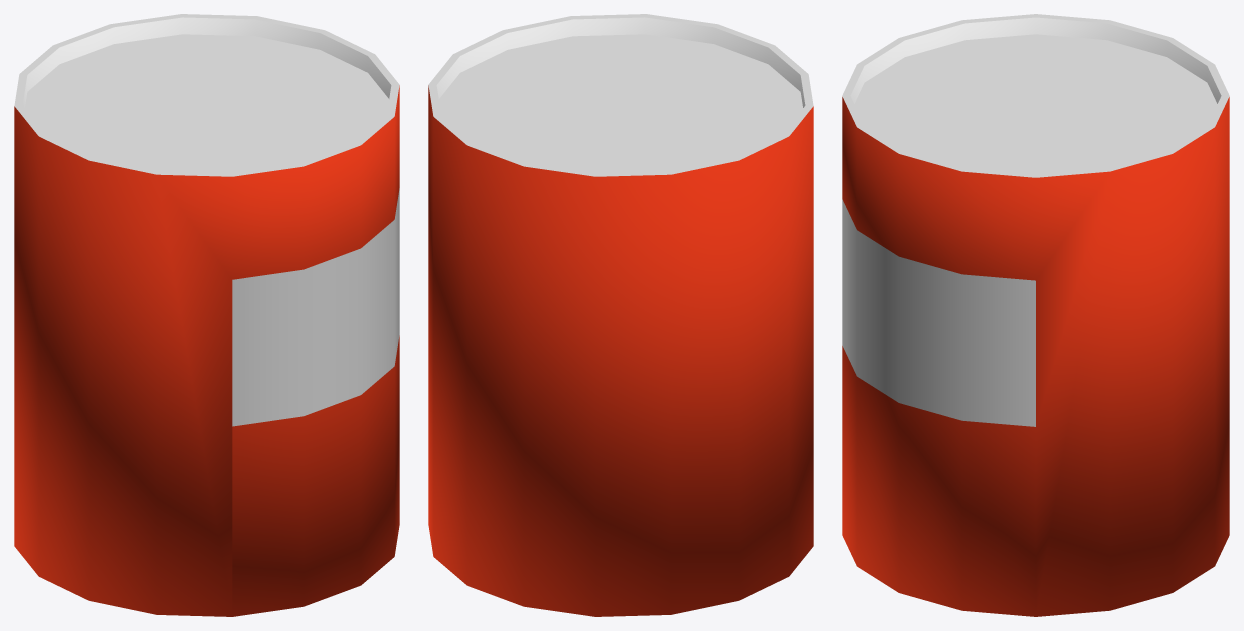
Rendered from canned_food.glb.
3 views of the same model, side by side, from view 1: azimuth 30°, elevation 25°; view 2: azimuth 150°, elevation 25°; view 3: azimuth 270°, elevation 25° (orthographic).
Visible parts, largest first — view 1: CannedFood; view 2: CannedFood; view 3: CannedFood.
Part boxes in pixels (x1,y1,x2,y2): CannedFood: [14, 14, 399, 616]; CannedFood: [428, 14, 813, 616]; CannedFood: [842, 14, 1229, 616].
Size of the model in its own units: 0.04 by 0.05 by 0.04.
